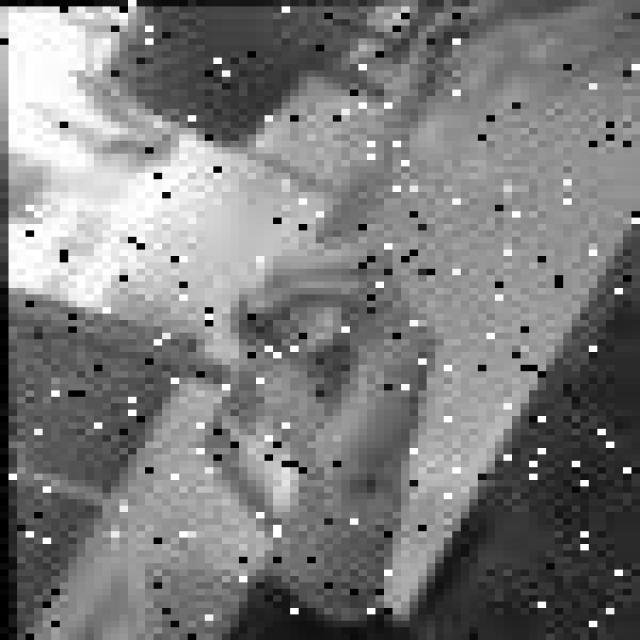O: (205, 234, 435, 476)
